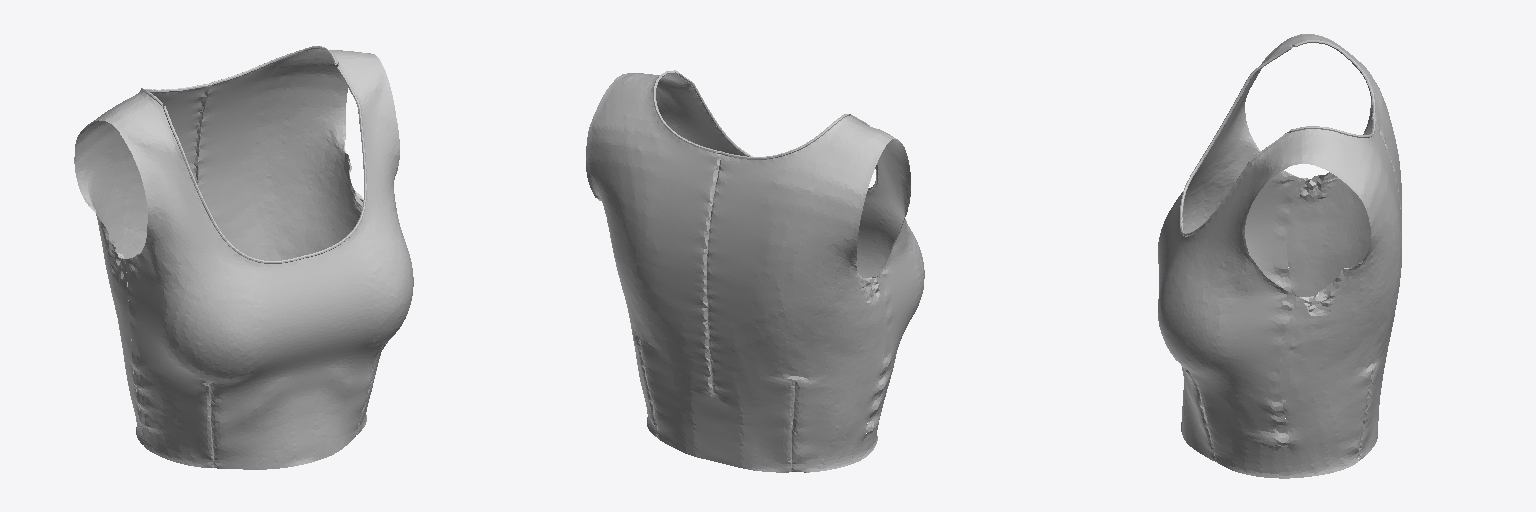
The picture shows the model from 3 angles: view 1: azimuth 30°, elevation 25°; view 2: azimuth 150°, elevation 25°; view 3: azimuth 270°, elevation 25°; orthographic projection.
Bounding box in the file's own units: 305 × 364 × 234.